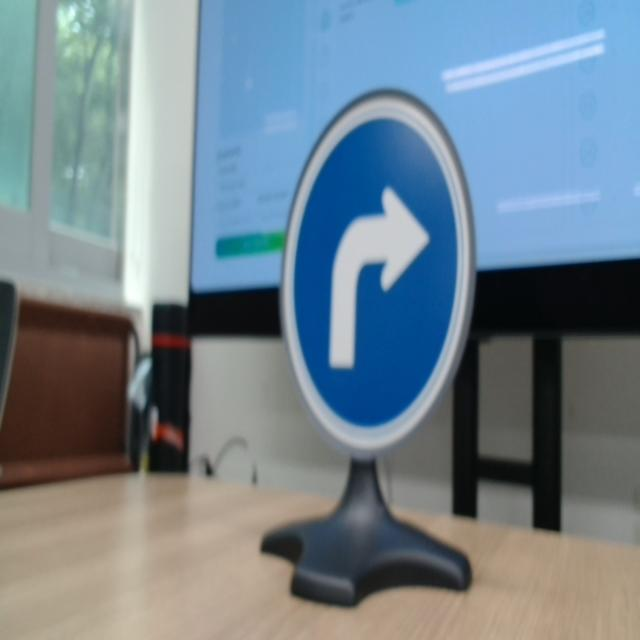right_dierection: (266, 91, 492, 494)
